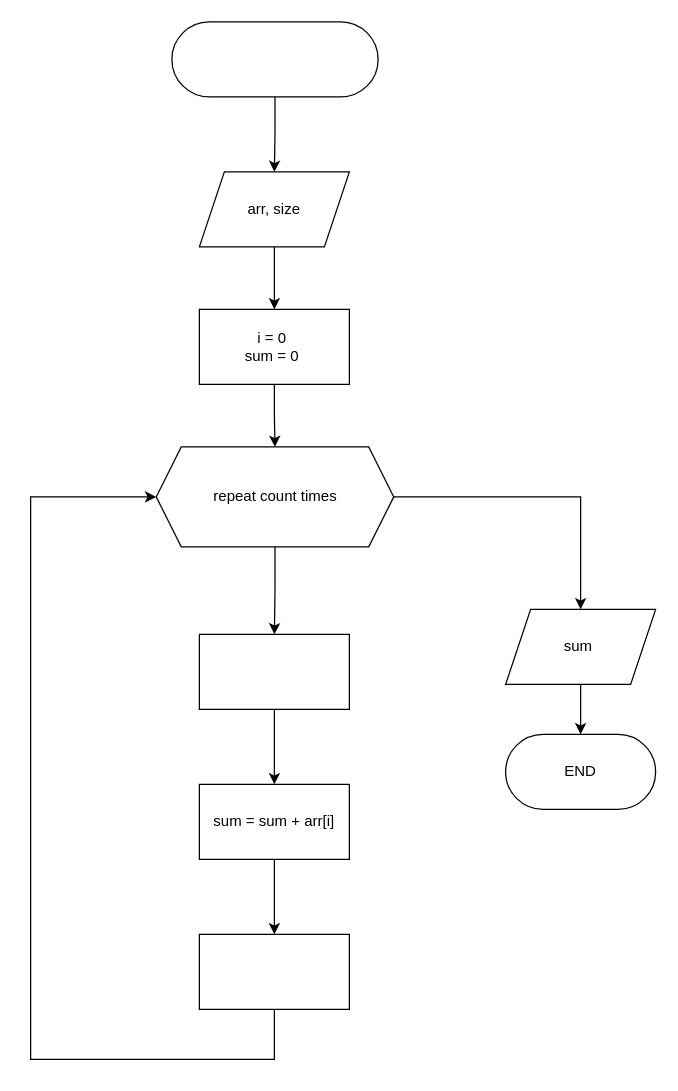
This 678x1091 diagram has some shape labels left out. The box of each missing label's shape, as (x1, y1, x2, y2) in pixels:
arr[i] = arr[i] * arr[i]: (198, 633, 349, 709)
i = i + 1: (198, 933, 349, 1009)
Square(n) Sum: (171, 21, 378, 97)
